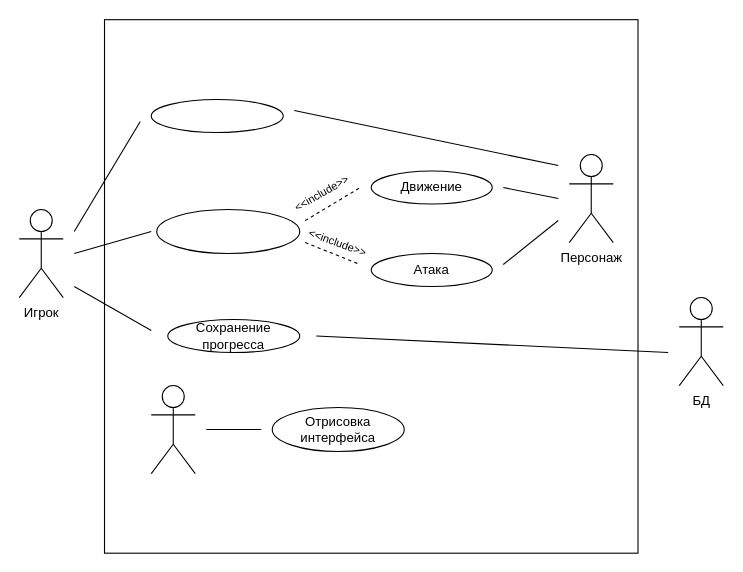
Image size: 743x572. Some labels were removed from this diagram. The box of each missing label's shape, as (x1, y1, x2, y2) in pixels:
UI: (150, 384, 195, 474)
Выбор персонажа: (150, 98, 283, 133)
Управление персонажем: (156, 208, 300, 254)
